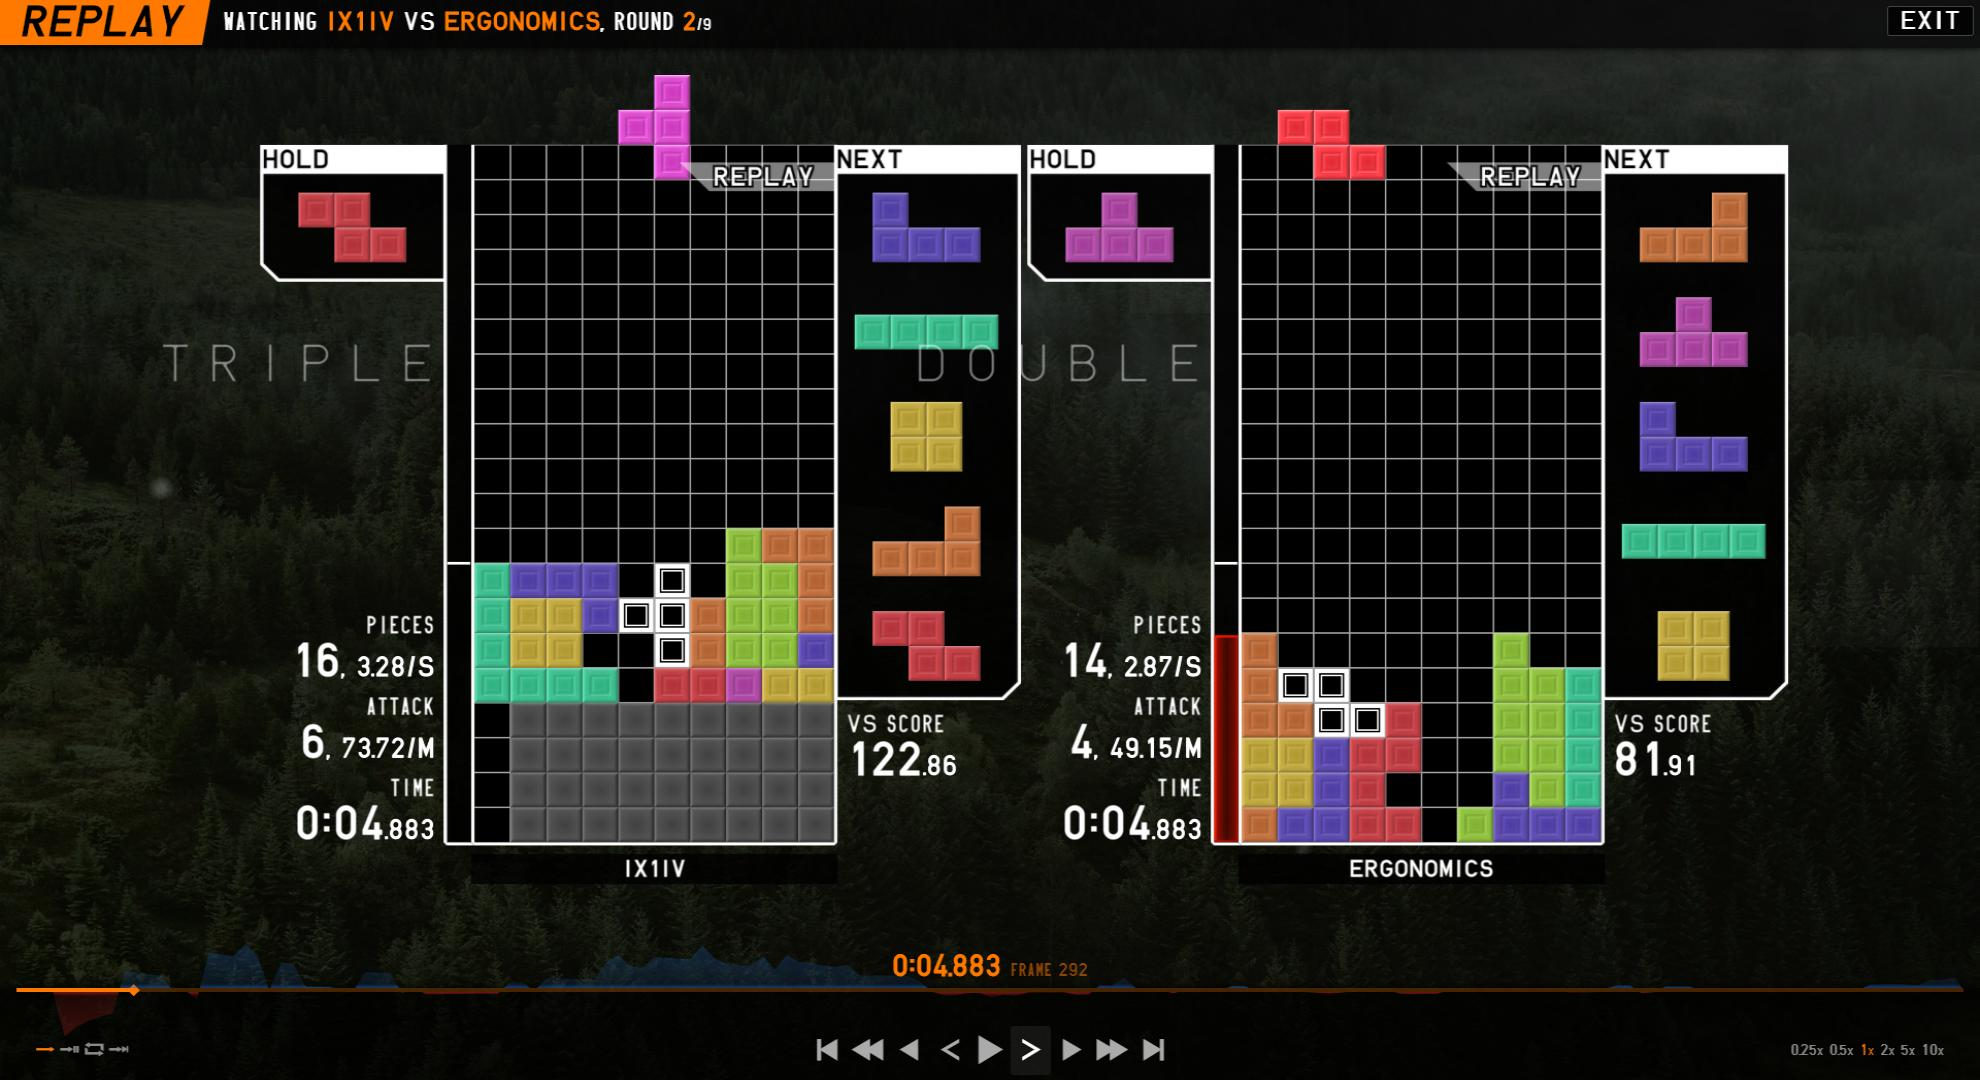tspin: (1388, 737, 1501, 846), (588, 601, 689, 700)
